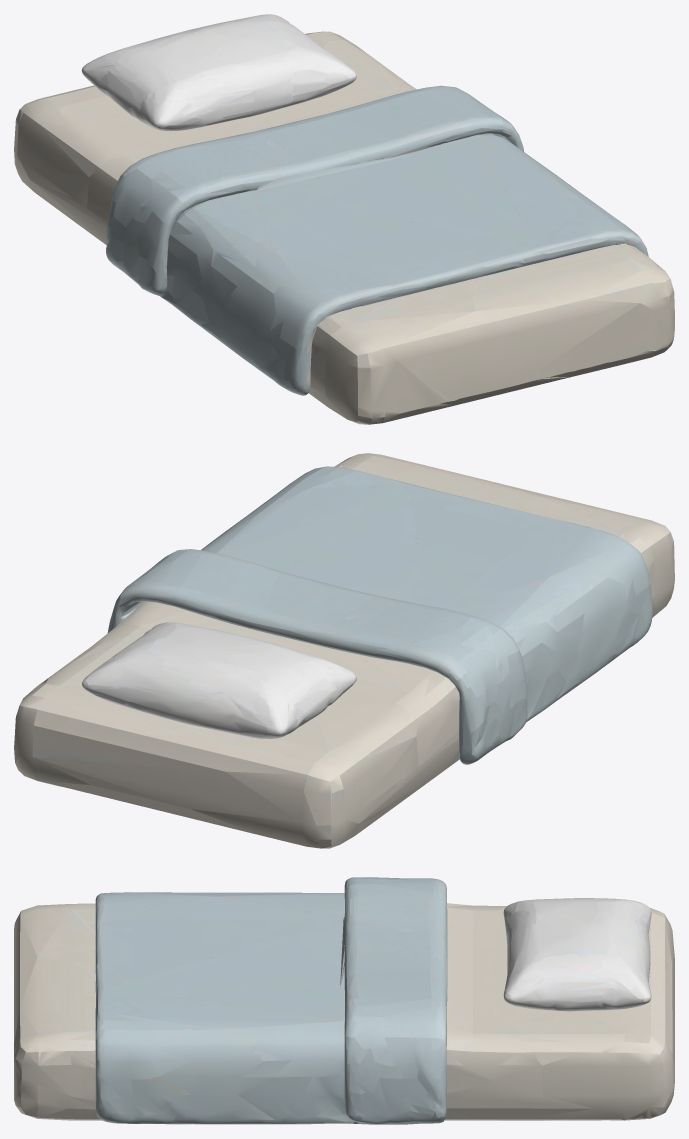
File: mattress.glb
The picture shows the model from 3 angles, top to bottom: view 1: azimuth 30°, elevation 25°; view 2: azimuth 150°, elevation 25°; view 3: azimuth 270°, elevation 25°; orthographic projection. The views are drawn at different scales.
Bounding box in the file's own units: 1.17 × 0.411 × 1.9.
1 material, 1 textured.
